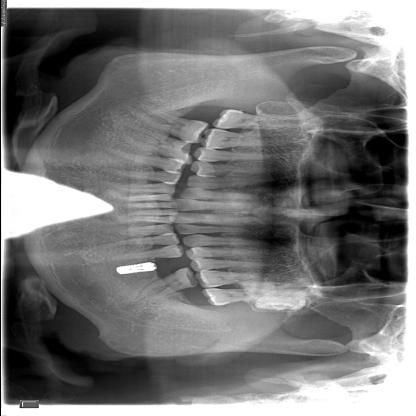ITI: (113, 260, 162, 276)
